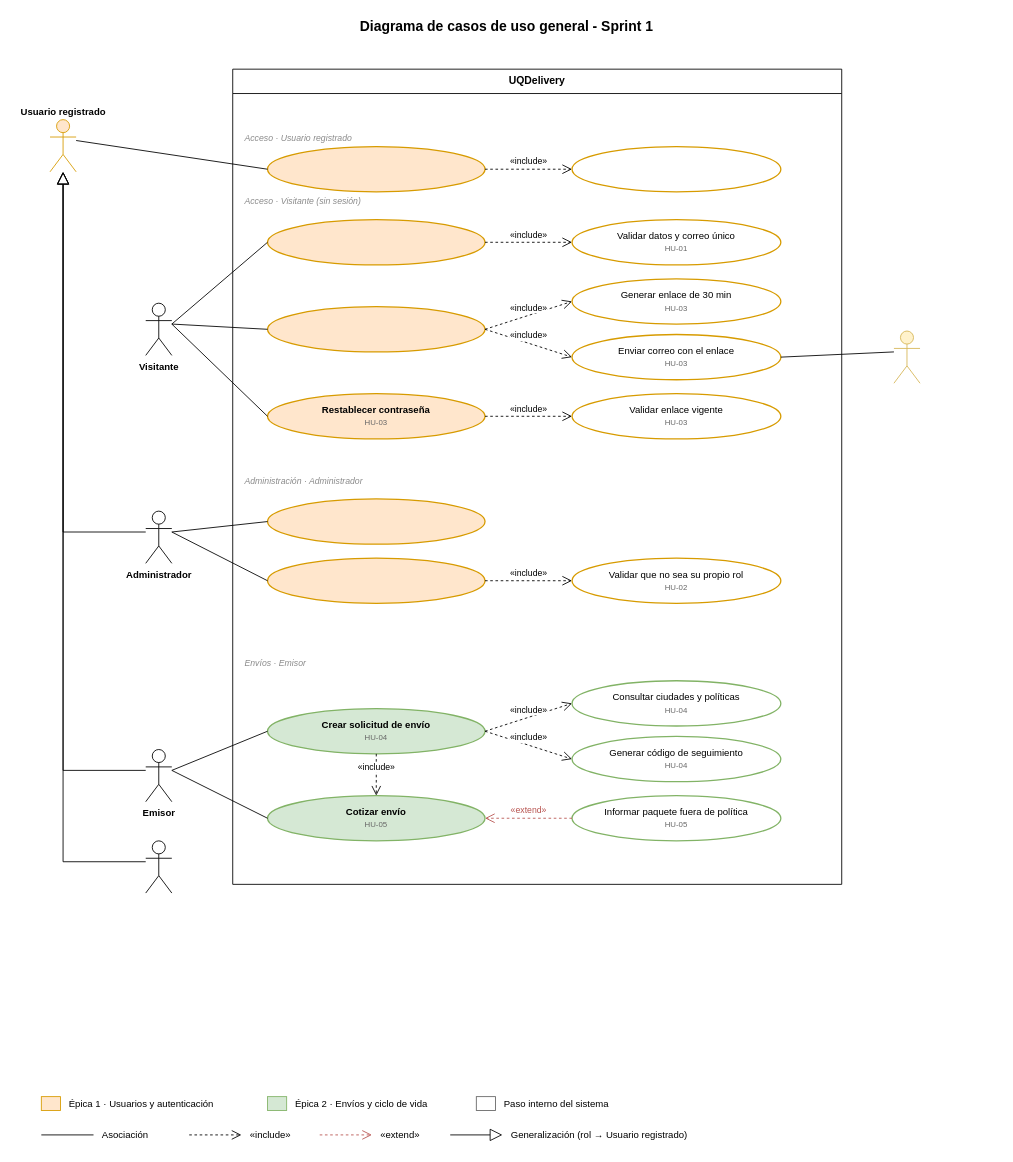
Image size: 1013x1162. Some labels were removed from this diagram. The box of each missing label's shape, as (x1, y1, x2, y2) in pixels:
Cambiar el rol de un usuario HU-02: (266, 557, 485, 604)
Generar token JWT (2 h) HU-01: (571, 146, 781, 192)
Iniciar sesión HU-01: (266, 146, 485, 192)
Listar usuarios HU-02: (266, 498, 485, 544)
Registrarse HU-01: (266, 219, 485, 265)
Repartidor: (145, 840, 172, 893)
Servicio de correo: (893, 330, 920, 383)
Solicitar recuperación de contraseña HU-03: (266, 306, 485, 352)
